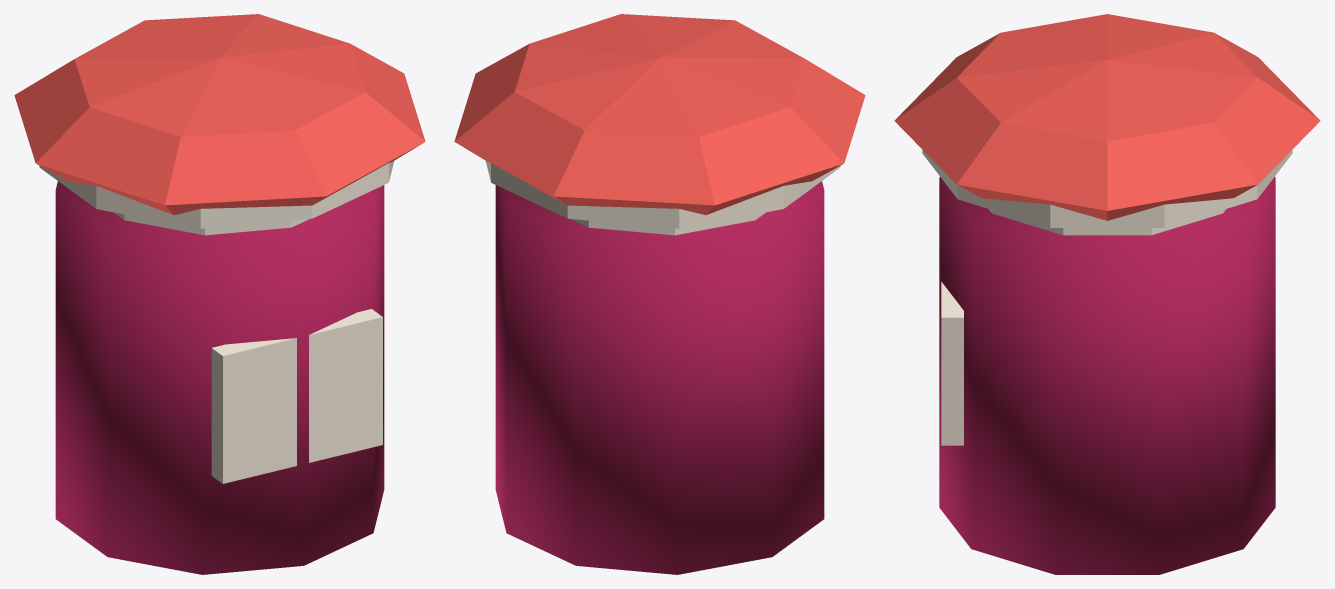
Rendered from good_jam.glb.
3 views of the same model, side by side, from view 1: azimuth 30°, elevation 25°; view 2: azimuth 150°, elevation 25°; view 3: azimuth 270°, elevation 25° (orthographic).
Visible parts, largest first — view 1: good_jam; view 2: good_jam; view 3: good_jam.
Part boxes in pixels (x1,y1,x2,y2): good_jam: (14, 14, 425, 574); good_jam: (454, 14, 865, 574); good_jam: (894, 14, 1320, 574).
Bounding box in the file's own units: 0.19 × 0.22 × 0.19.
